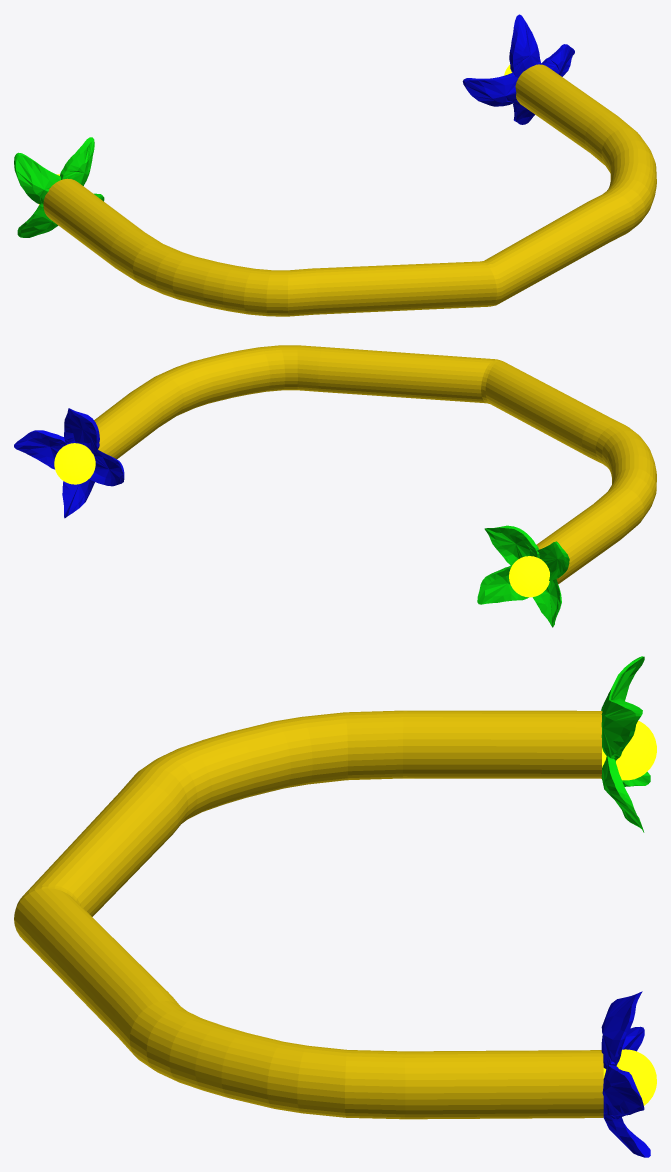
The model's file is Venecc.glb.
3 renders of one model, top to bottom at view 1: azimuth 30°, elevation 25°; view 2: azimuth 150°, elevation 25°; view 3: azimuth 270°, elevation 25°, orthographic. The views are drawn at different scales.
Parts seen in each view (by area): view 1: Цилиндр.002, Сфера.001, Сфера.002; view 2: Цилиндр.002, Сфера.001, Сфера.002; view 3: Цилиндр.002, Сфера.001, Сфера.002.
Boxes of the visible parts, x1,y1,x2,y2 form: Цилиндр.002: (43,64,656,316); Сфера.001: (462,14,574,124); Сфера.002: (14,137,104,237); Цилиндр.002: (94,345,656,584); Сфера.001: (14,408,124,518); Сфера.002: (477,525,569,627); Цилиндр.002: (14,710,603,1119); Сфера.001: (601,991,656,1157); Сфера.002: (601,656,656,832).
Bounding box in the file's own units: 3.65 × 0.6931 × 2.46.
